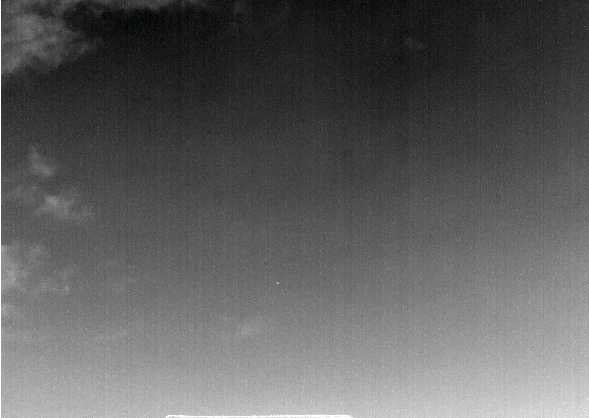dim target: (275, 281, 281, 285)
